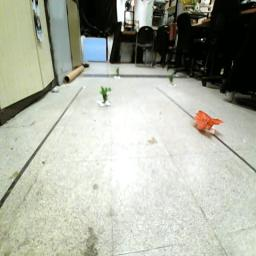herb: (100, 87, 114, 103), (169, 74, 176, 86), (117, 69, 122, 77)
wild: (194, 110, 226, 130)
